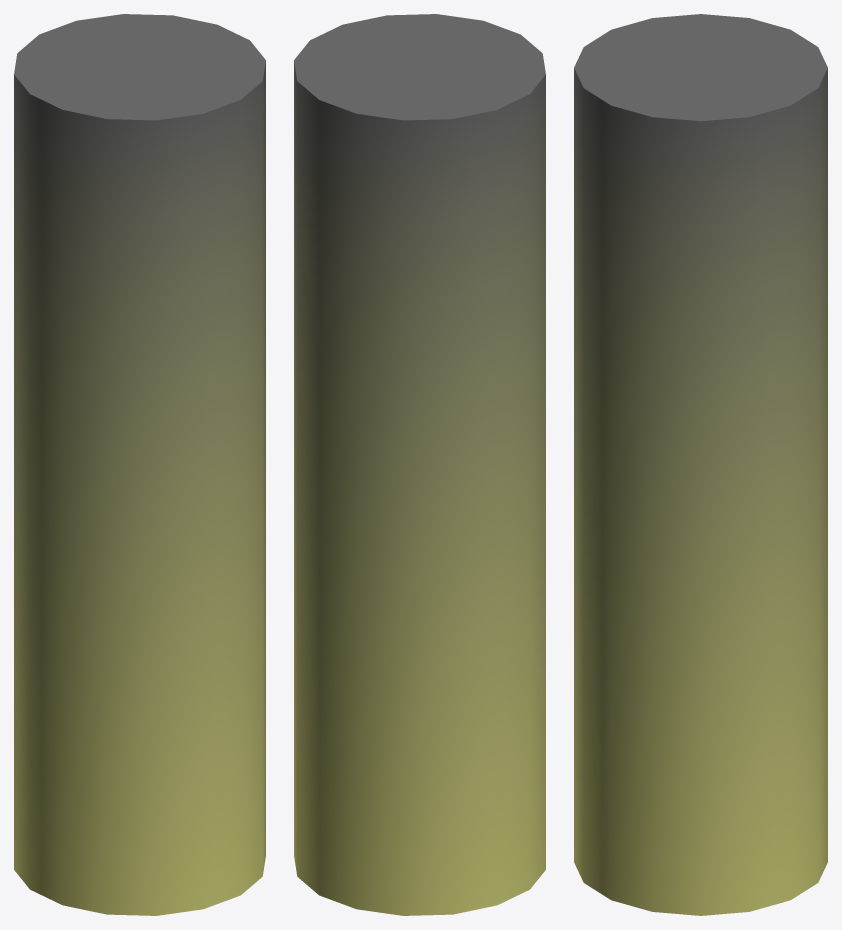
Rendered from lightBeam.fbx.
3 renders of one model, left to right at view 1: azimuth 30°, elevation 25°; view 2: azimuth 150°, elevation 25°; view 3: azimuth 270°, elevation 25°, orthographic.
Visible parts, largest first — view 1: pCylinder4; view 2: pCylinder4; view 3: pCylinder4.
Boxes of the visible parts, x1=… form: pCylinder4: x1=14, y1=14, x2=265, y2=915; pCylinder4: x1=294, y1=14, x2=545, y2=915; pCylinder4: x1=574, y1=14, x2=827, y2=915.
Size of the model in its own units: 24.77 by 85.55 by 24.77.
